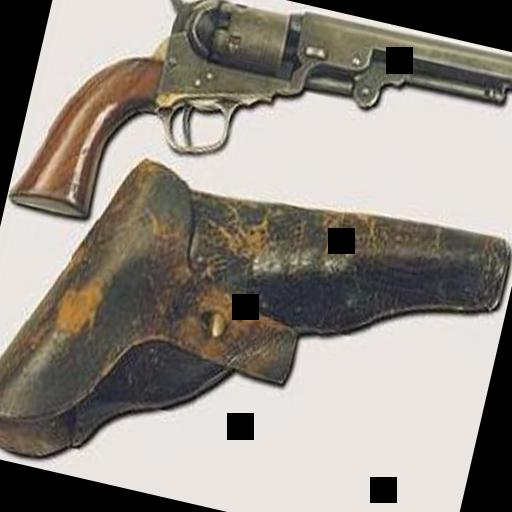Handgun: (5, 0, 512, 314)
